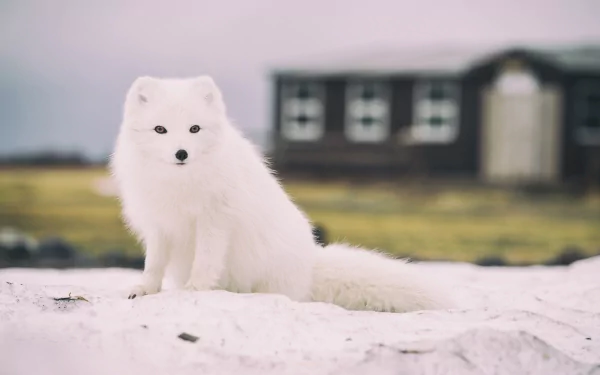arcticfox: (139, 102, 214, 180)
